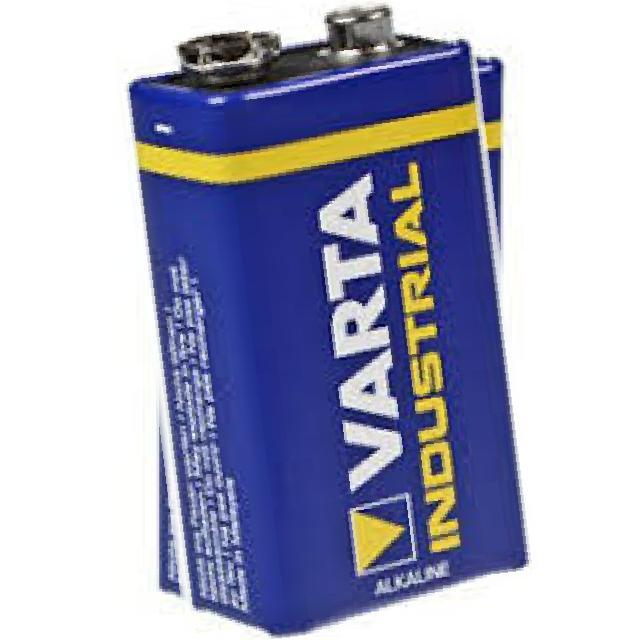Battery: (109, 0, 537, 638)
